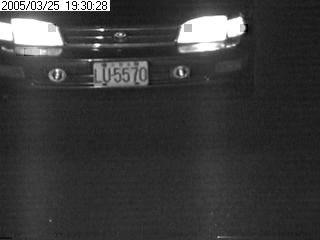plate: (91, 58, 150, 89)
